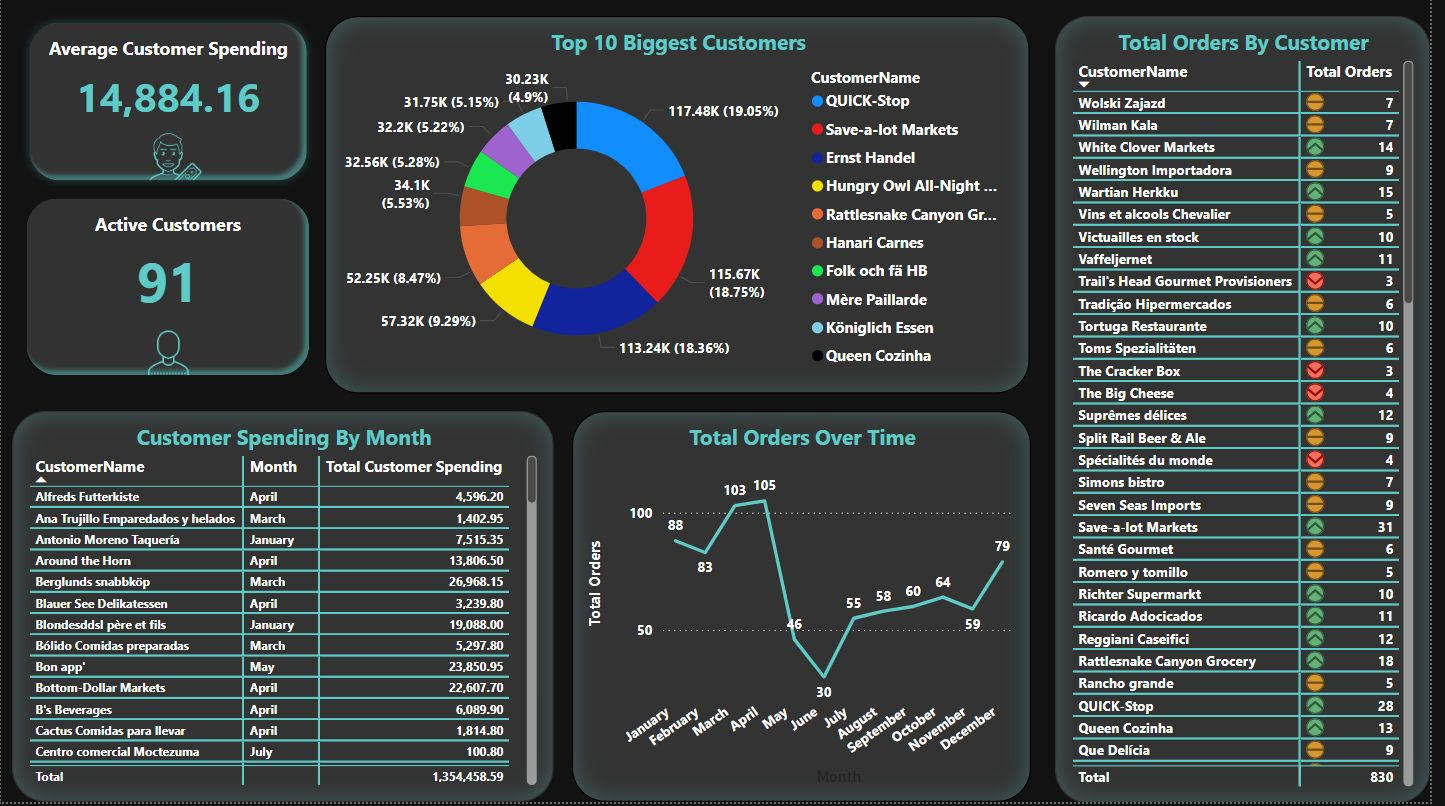

Layout of this report page (visuals, bound fields, positions):
{"tool":"powerbi","page":{"name":"Customer Insights","canvas":[1280,720],"ordinal":1},"visuals":[{"type":"cardVisual","fields":{"Data":["MeasureTable.Average Customer Spending"]},"box":[9.9,0,280.3,174.6],"z":0},{"type":"donutChart","title":"Top 10 Biggest Customers","fields":{"Category":["CustomerAnalysis.CustomerName"],"Y":["MeasureTable.Total Customer Spending"]},"box":[290.1,0,631.3,339.4],"z":1000},{"type":"tableEx","title":"Total Orders By Customer","fields":{"Values":["CustomerAnalysis.CustomerName","MeasureTable.Total Orders"]},"box":[943.9,0,335.8,720.9],"z":2000},{"type":"lineChart","title":"Total Orders Over Time","fields":{"Category":["Orders.OrderDate.Variation.Date Hierarchy.Month"],"Y":["MeasureTable.Total Orders"]},"box":[511.3,360.9,411,359.1],"z":3000},{"type":"cardVisual","fields":{"Data":["MeasureTable.Active Customers"]},"box":[17.9,174.6,263.3,164.8],"z":4000},{"type":"tableEx","title":"Customer Spending By Month","fields":{"Values":["CustomerAnalysis.CustomerName","CustomerAnalysis.Recency.Variation.Date Hierarchy.Month","MeasureTable.Total Customer Spending"]},"box":[9.9,350.1,485.4,369.9],"z":5000}]}

Visuals, with their boxes in screenshot pixels (x1, y1, x2, y2), scaled from the page's 1280x720 canvas onto the 1445x806 screenshot:
cardVisual - MeasureTable.Average Customer Spending: BBox(11, 0, 328, 195)
"Top 10 Biggest Customers" donutChart: BBox(327, 0, 1040, 380)
"Total Orders By Customer" tableEx: BBox(1066, 0, 1444, 805)
"Total Orders Over Time" lineChart: BBox(577, 404, 1041, 805)
cardVisual - MeasureTable.Active Customers: BBox(20, 195, 317, 380)
"Customer Spending By Month" tableEx: BBox(11, 392, 559, 805)
